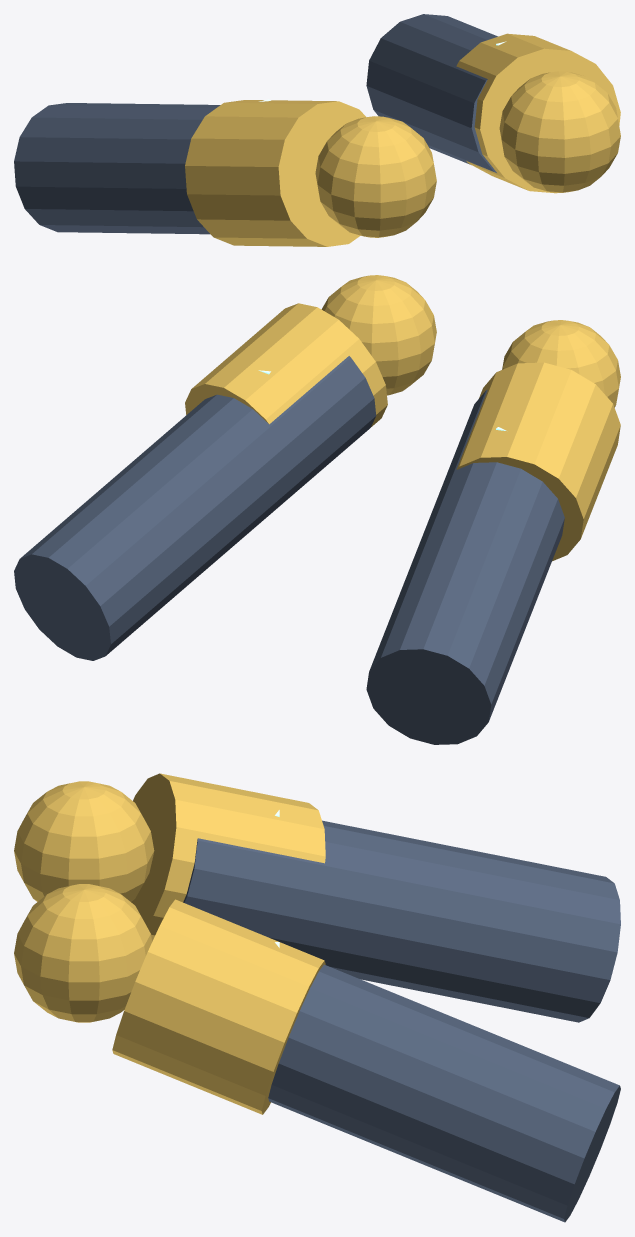
File: viewmodel_god_arms.glb
3 views of the same model, one above another, from view 1: azimuth 30°, elevation 25°; view 2: azimuth 150°, elevation 25°; view 3: azimuth 270°, elevation 25° (orthographic). The views are drawn at different scales.
Parts seen in each view (by area): view 1: Cylinder, Cylinder.001, Cylinder.002, Sphere.001, Sphere, Cylinder.003; view 2: Cylinder.002, Cylinder, Cylinder.001, Cylinder.003, Sphere.001, Sphere; view 3: Cylinder, Cylinder.002, Cylinder.003, Sphere.001, Cylinder.001, Sphere.
Part boxes in pixels (left/top/right/bottom): Cylinder: left=14, top=103, right=220, bottom=234; Cylinder.001: left=185, top=100, right=366, bottom=246; Cylinder.002: left=366, top=14, right=497, bottom=172; Sphere.001: left=499, top=71, right=620, bottom=192; Sphere: left=315, top=116, right=436, bottom=237; Cylinder.003: left=456, top=33, right=620, bottom=193; Cylinder.002: left=14, top=356, right=376, bottom=660; Cylinder: left=366, top=389, right=564, bottom=744; Cylinder.001: left=456, top=362, right=620, bottom=561; Cylinder.003: left=185, top=303, right=387, bottom=426; Sphere.001: left=321, top=275, right=436, bottom=395; Sphere: left=502, top=320, right=620, bottom=407; Cylinder: left=183, top=820, right=620, bottom=1022; Cylinder.002: left=268, top=964, right=620, bottom=1222; Cylinder.003: left=112, top=899, right=325, bottom=1114; Sphere.001: left=14, top=884, right=152, bottom=1022; Cylinder.001: left=131, top=773, right=325, bottom=941; Sphere: left=14, top=781, right=154, bottom=901.
Size of the model in its own units: 0.465 by 0.2268 by 0.4499.
